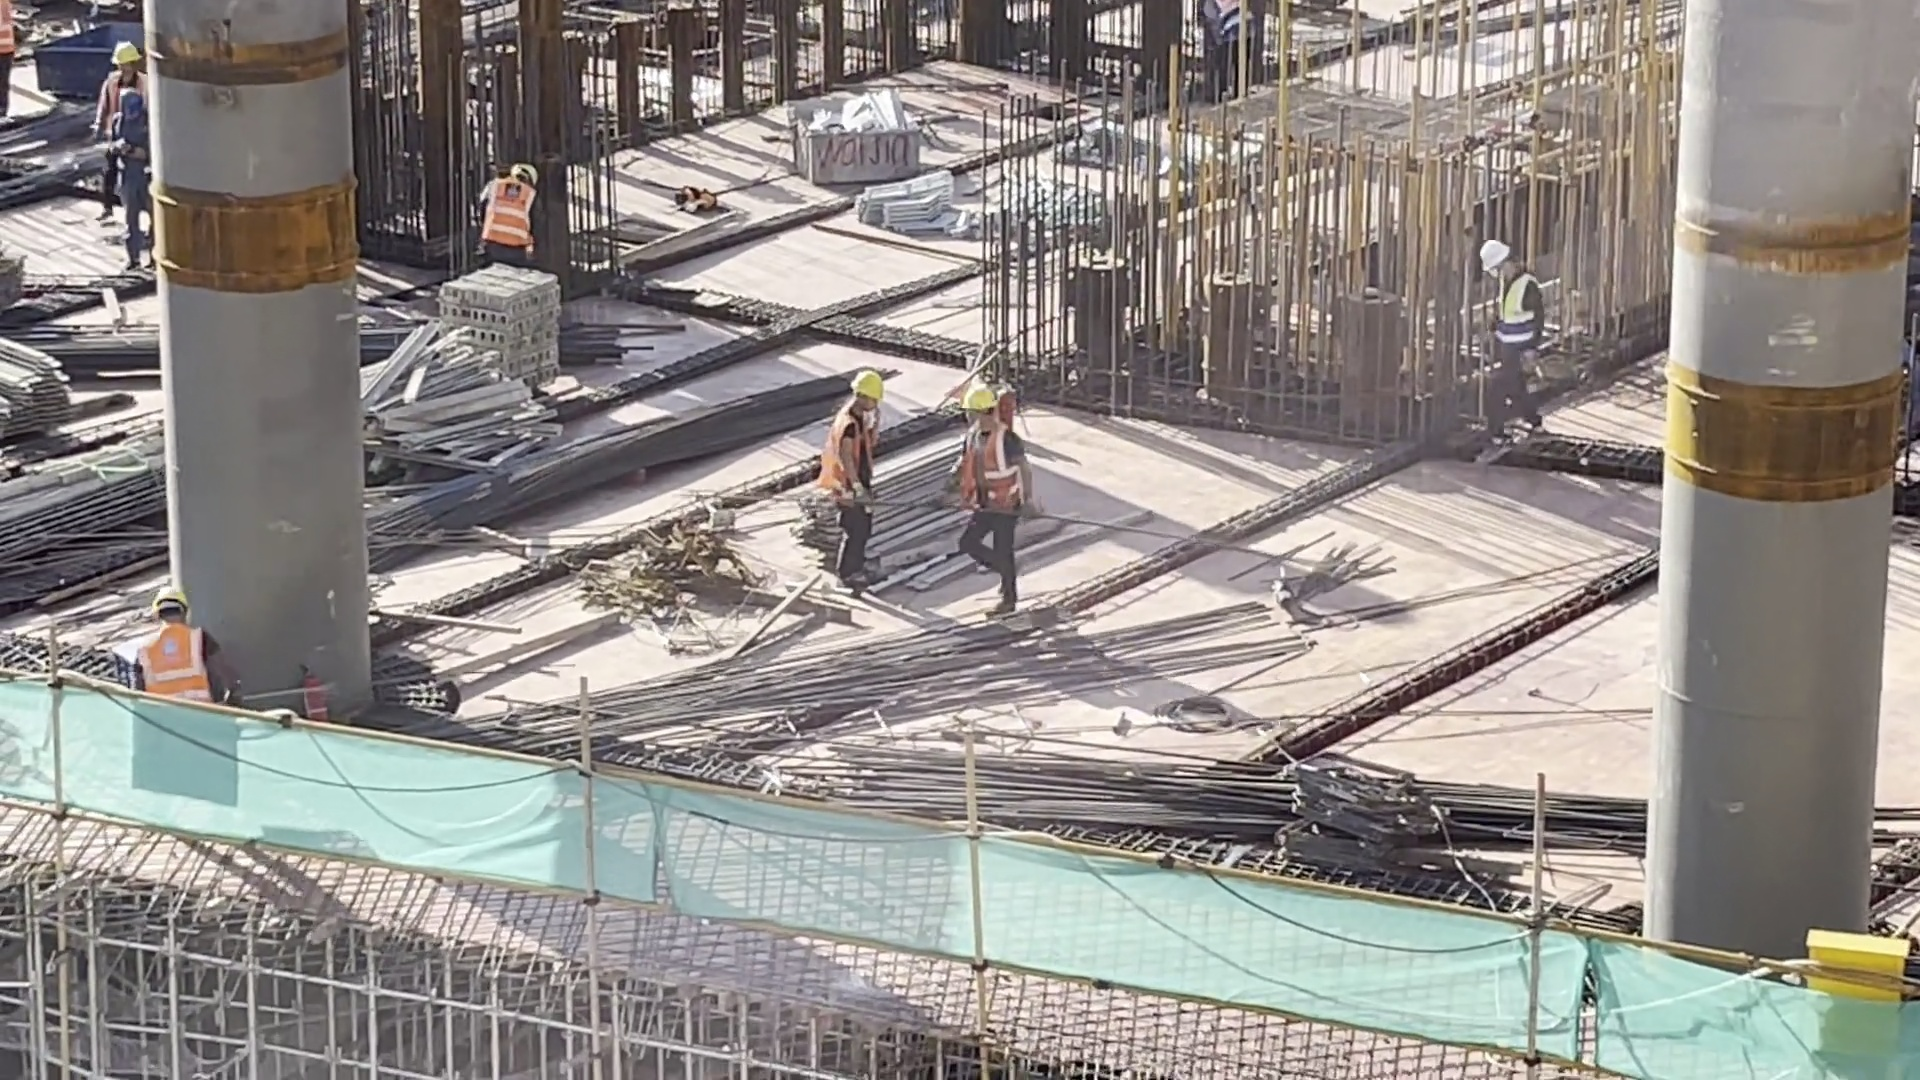helmet: (139, 579, 202, 624), (955, 379, 1008, 416), (1470, 234, 1516, 270), (841, 368, 886, 404), (116, 39, 146, 67)
person: (945, 374, 1038, 620), (1464, 232, 1562, 435), (130, 570, 233, 760), (818, 352, 891, 576), (456, 131, 556, 285), (95, 30, 149, 189), (108, 101, 162, 256)
vest: (813, 408, 878, 519), (142, 618, 205, 712), (960, 429, 1020, 522), (481, 168, 531, 250), (1494, 276, 1538, 345)
